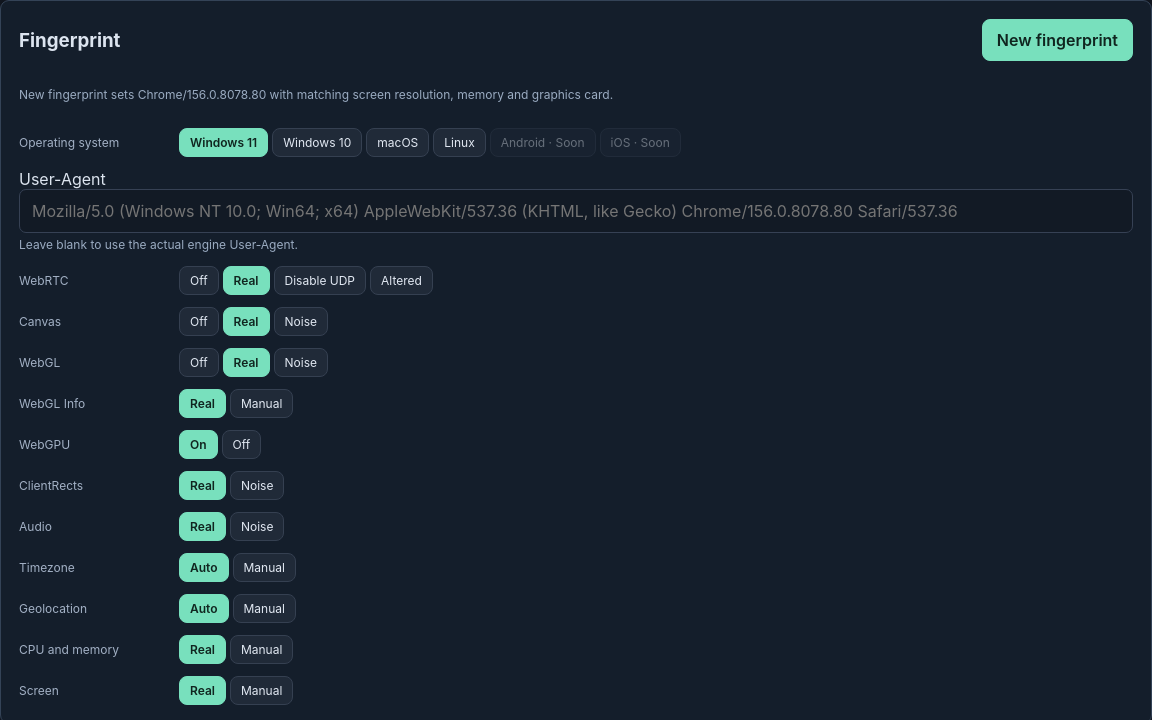
Scenario: shows a localized empty result for an unmatched search
The image size is (1152, 720).
Click the button "Manual" in the row of "Timezone" at (264, 568), box 232,553 -> 296,582
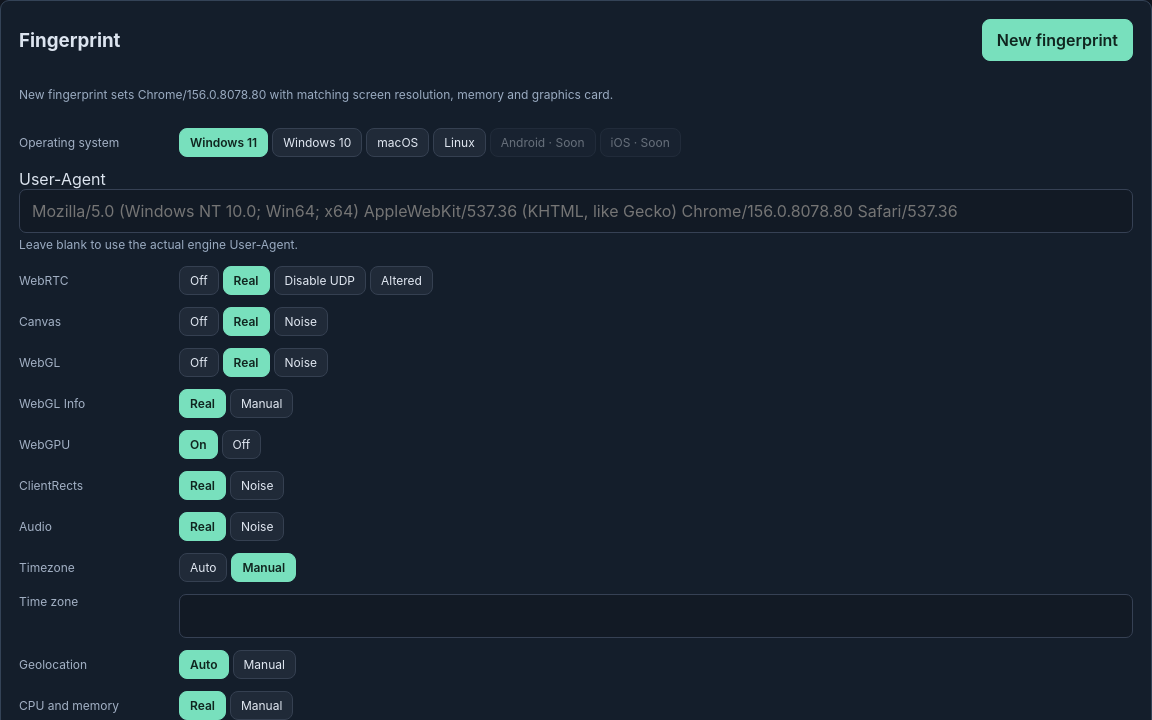
Type "Mars/Olympus" into the dropdown labelled "Time zone" at (656, 616), box 179,594 -> 1133,638
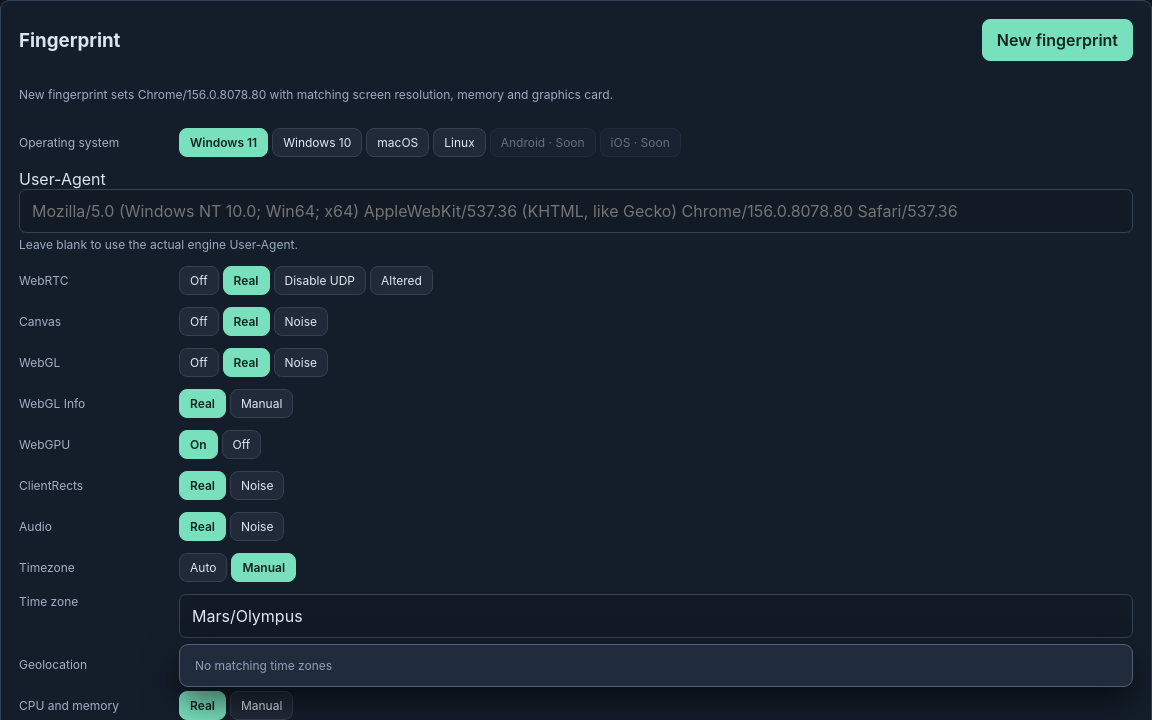
expect the option "No matching time zones" is shown: met, box 195,658 -> 332,673
